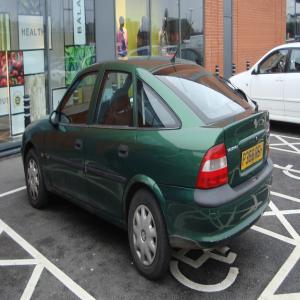Vehicle-registration-plate: (243, 141, 265, 170)
